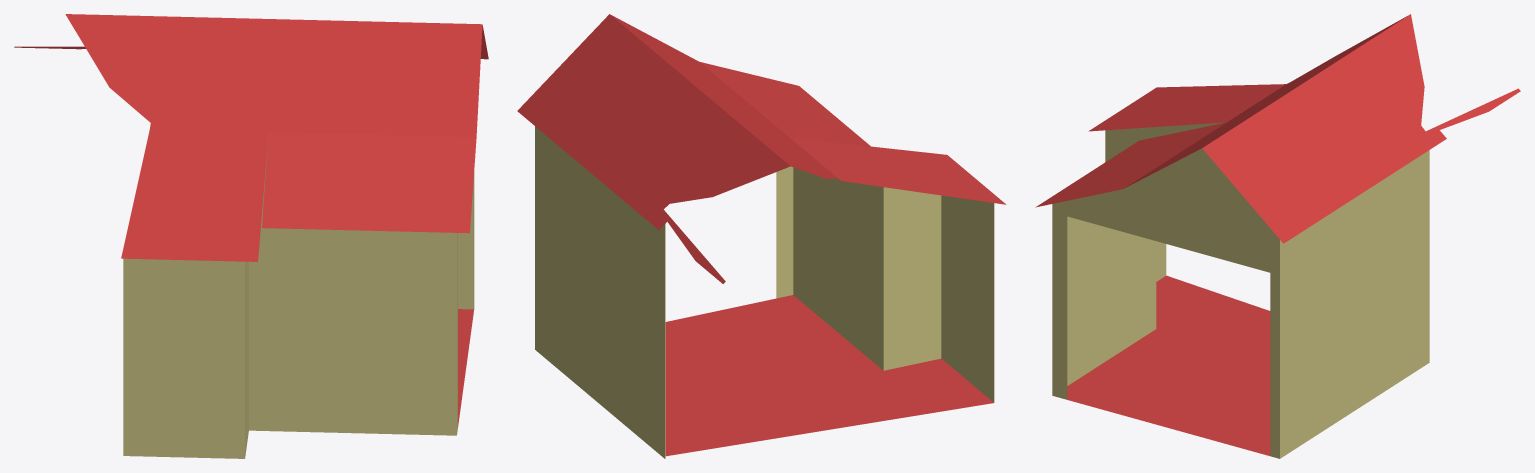
3 renders of one model, left to right at view 1: azimuth 30°, elevation 25°; view 2: azimuth 150°, elevation 25°; view 3: azimuth 270°, elevation 25°, orthographic. The views are drawn at different scales.
Size of the model in its own units: 18.3 by 19.35 by 12.98.
